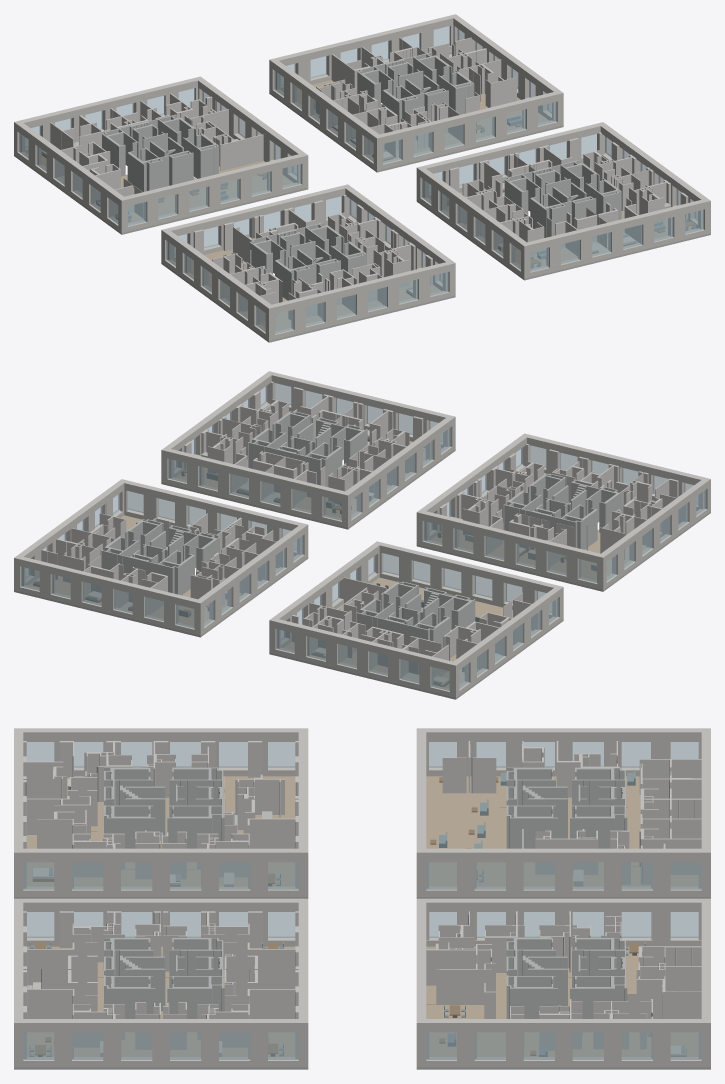
Rendered from 432_Park_Avenue_Typical_Plans.glb.
The picture shows the model from 3 angles, top to bottom: view 1: azimuth 30°, elevation 25°; view 2: azimuth 150°, elevation 25°; view 3: azimuth 270°, elevation 25°; orthographic projection. The views are drawn at different scales.
Parts seen in each view (by area): view 1: Typical_2_Apartment_Plan_Concrete_Grid, Typical_1_Apartment_Plan_Concrete_Grid, Typical_3_Apartment_Plan_Concrete_Grid, Typical_4_Apartment_Plan_Concrete_Grid, Typical_3_Apartment_Plan_Partitions, Typical_4_Apartment_Plan_Partitions, Typical_2_Apartment_Plan_Partitions, Typical_1_Apartment_Plan_Partitions, Typical_1_Apartment_Plan_Core, Typical_3_Apartment_Plan_Windows, Typical_4_Apartment_Plan_Windows, Typical_4_Apartment_Plan_Core (+10 smaller); view 2: Typical_1_Apartment_Plan_Concrete_Grid, Typical_2_Apartment_Plan_Concrete_Grid, Typical_3_Apartment_Plan_Concrete_Grid, Typical_4_Apartment_Plan_Concrete_Grid, Typical_4_Apartment_Plan_Partitions, Typical_3_Apartment_Plan_Partitions, Typical_2_Apartment_Plan_Partitions, Typical_1_Apartment_Plan_Partitions, Typical_1_Apartment_Plan_Windows, Typical_2_Apartment_Plan_Windows, Typical_3_Apartment_Plan_Windows, Typical_4_Apartment_Plan_Windows (+10 smaller); view 3: Typical_4_Apartment_Plan_Partitions, Typical_2_Apartment_Plan_Concrete_Grid, Typical_1_Apartment_Plan_Concrete_Grid, Typical_3_Apartment_Plan_Partitions, Typical_3_Apartment_Plan_Concrete_Grid, Typical_4_Apartment_Plan_Concrete_Grid, Typical_2_Apartment_Plan_Partitions, Typical_1_Apartment_Plan_Partitions, Typical_2_Apartment_Plan_Windows, Typical_3_Apartment_Plan_Windows, Typical_4_Apartment_Plan_Windows, Typical_1_Apartment_Plan_Windows (+21 smaller).
Part boxes in pixels (box(x1,y1,x2,y2)): Typical_2_Apartment_Plan_Concrete_Grid: box(269, 14, 563, 170); Typical_1_Apartment_Plan_Concrete_Grid: box(14, 76, 308, 232); Typical_3_Apartment_Plan_Concrete_Grid: box(161, 184, 455, 340); Typical_4_Apartment_Plan_Concrete_Grid: box(416, 122, 710, 278); Typical_3_Apartment_Plan_Partitions: box(168, 194, 447, 321); Typical_4_Apartment_Plan_Partitions: box(423, 132, 702, 255); Typical_2_Apartment_Plan_Partitions: box(276, 25, 555, 157); Typical_1_Apartment_Plan_Partitions: box(21, 87, 299, 217); Typical_1_Apartment_Plan_Core: box(102, 114, 218, 191); Typical_3_Apartment_Plan_Windows: box(166, 196, 448, 333); Typical_4_Apartment_Plan_Windows: box(422, 134, 703, 271); Typical_4_Apartment_Plan_Core: box(504, 160, 621, 237); Typical_1_Apartment_Plan_Concrete_Grid: box(269, 541, 563, 697); Typical_2_Apartment_Plan_Concrete_Grid: box(14, 479, 308, 635); Typical_3_Apartment_Plan_Concrete_Grid: box(416, 433, 710, 589); Typical_4_Apartment_Plan_Concrete_Grid: box(161, 371, 455, 527); Typical_4_Apartment_Plan_Partitions: box(169, 381, 448, 504); Typical_3_Apartment_Plan_Partitions: box(425, 444, 703, 566); Typical_2_Apartment_Plan_Partitions: box(22, 490, 301, 614); Typical_1_Apartment_Plan_Partitions: box(277, 552, 556, 677); Typical_1_Apartment_Plan_Windows: box(276, 553, 558, 690); Typical_2_Apartment_Plan_Windows: box(21, 491, 302, 628); Typical_3_Apartment_Plan_Windows: box(423, 445, 705, 582); Typical_4_Apartment_Plan_Windows: box(168, 383, 450, 520); Typical_4_Apartment_Plan_Partitions: box(23, 911, 298, 1058); Typical_2_Apartment_Plan_Concrete_Grid: box(416, 898, 710, 1067); Typical_1_Apartment_Plan_Concrete_Grid: box(416, 728, 710, 896); Typical_3_Apartment_Plan_Partitions: box(23, 741, 298, 888); Typical_3_Apartment_Plan_Concrete_Grid: box(14, 728, 308, 896); Typical_4_Apartment_Plan_Concrete_Grid: box(14, 898, 308, 1067); Typical_2_Apartment_Plan_Partitions: box(426, 911, 701, 1058); Typical_1_Apartment_Plan_Partitions: box(426, 741, 701, 888); Typical_2_Apartment_Plan_Windows: box(426, 912, 701, 1059); Typical_3_Apartment_Plan_Windows: box(23, 742, 298, 889); Typical_4_Apartment_Plan_Windows: box(23, 912, 298, 1059); Typical_1_Apartment_Plan_Windows: box(426, 742, 701, 889).
Size of the model in its own units: 67.5 by 4.98 by 67.5.
